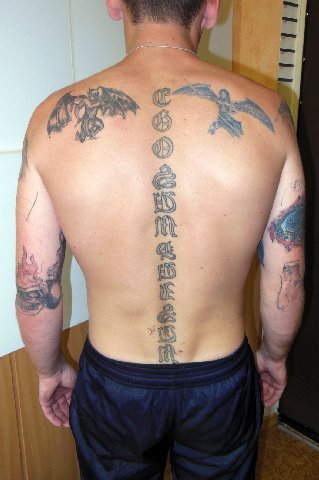tatu3_bukva: (144, 87, 180, 364)
